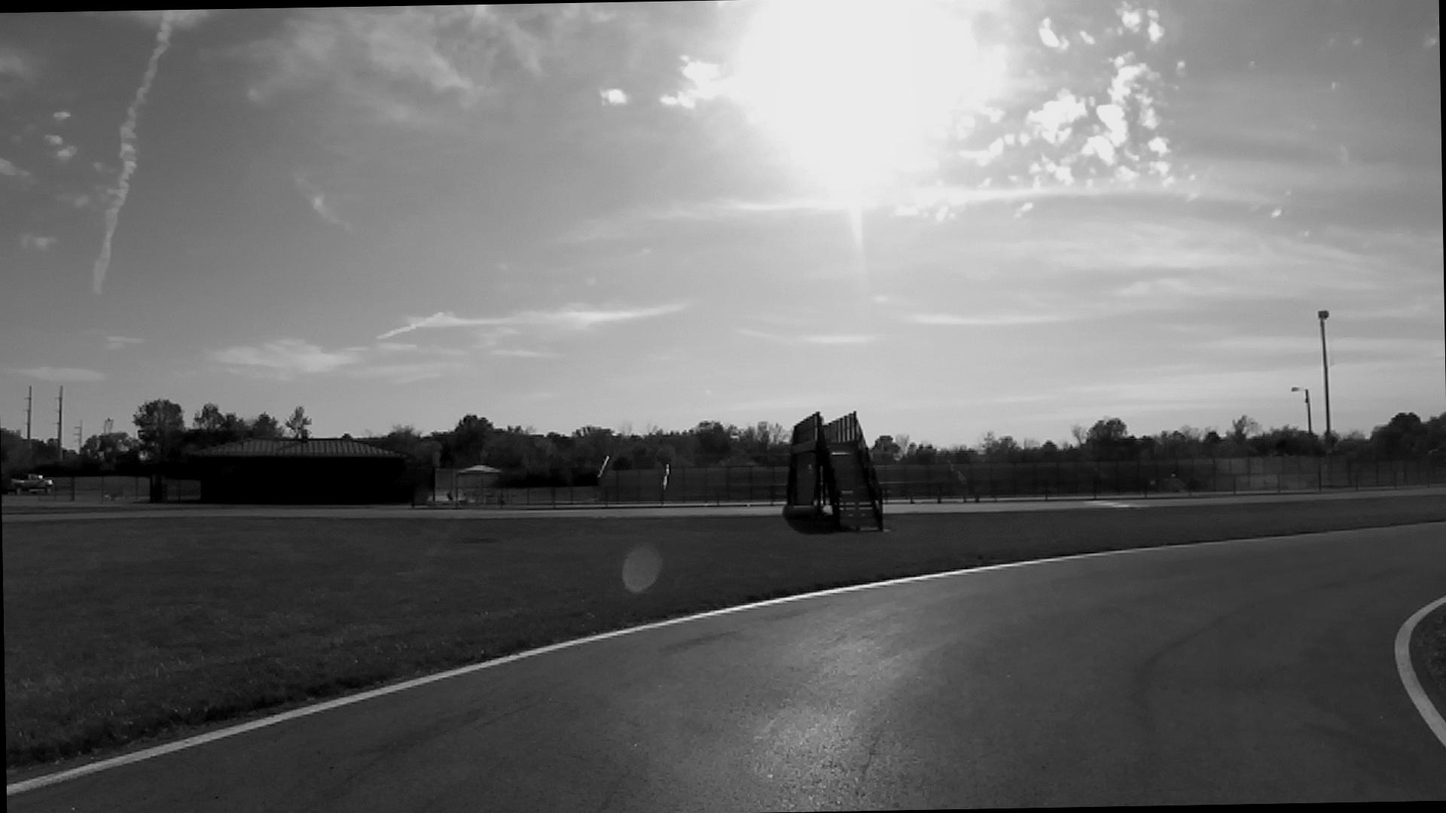white-line: (6, 537, 1265, 797), (1394, 595, 1446, 748)
